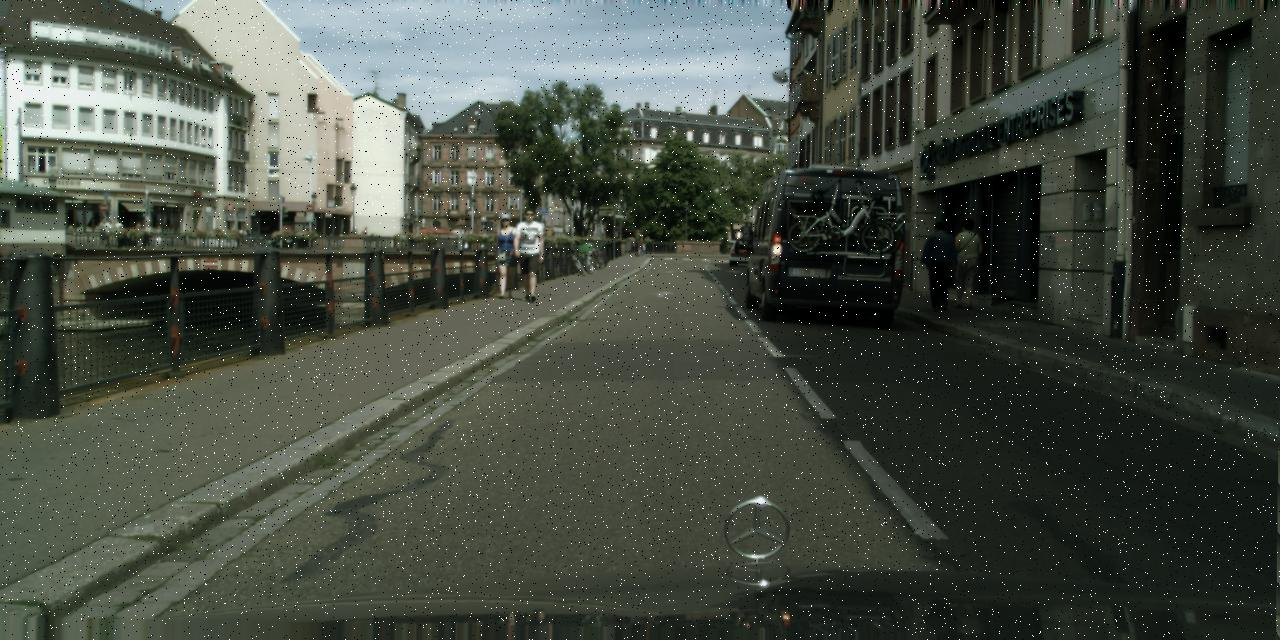ped: (510, 208, 548, 301), (947, 218, 984, 308), (922, 221, 958, 311), (488, 213, 522, 298), (97, 216, 109, 246), (114, 220, 125, 248), (104, 220, 114, 247), (632, 229, 642, 256), (142, 222, 152, 248), (636, 229, 646, 255), (359, 226, 369, 250), (154, 226, 162, 247), (242, 226, 250, 247)
